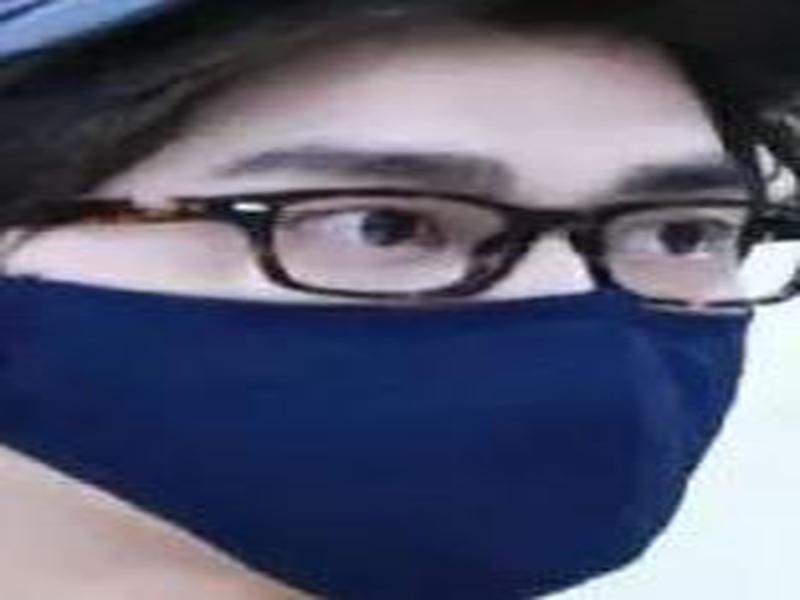with_mask: (1, 6, 778, 600)
